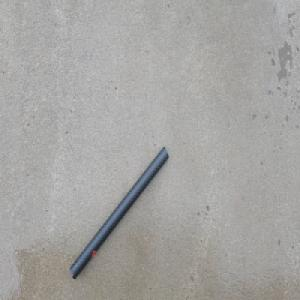LuggagePart: (69, 145, 168, 280)
